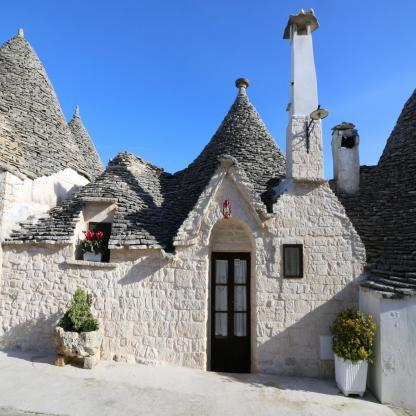Building Outline: (0, 8, 367, 380)
Cornice: (191, 169, 265, 236)
Dont: (328, 306, 377, 397), (52, 287, 102, 370), (306, 104, 329, 155), (79, 229, 108, 262), (223, 199, 231, 219)
Door: (210, 252, 251, 373)
Door Hole: (204, 217, 257, 374)
Facade: (0, 243, 360, 380)
Ground Floor: (0, 243, 360, 380)
Roof: (2, 78, 286, 254)
Window: (86, 221, 111, 262), (284, 244, 303, 278)
Window Hole: (80, 202, 115, 262)
